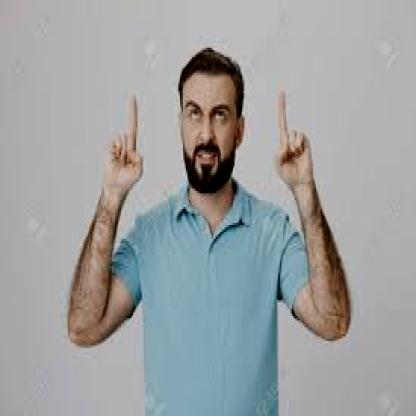Up: (263, 84, 327, 206), (102, 79, 152, 202)
